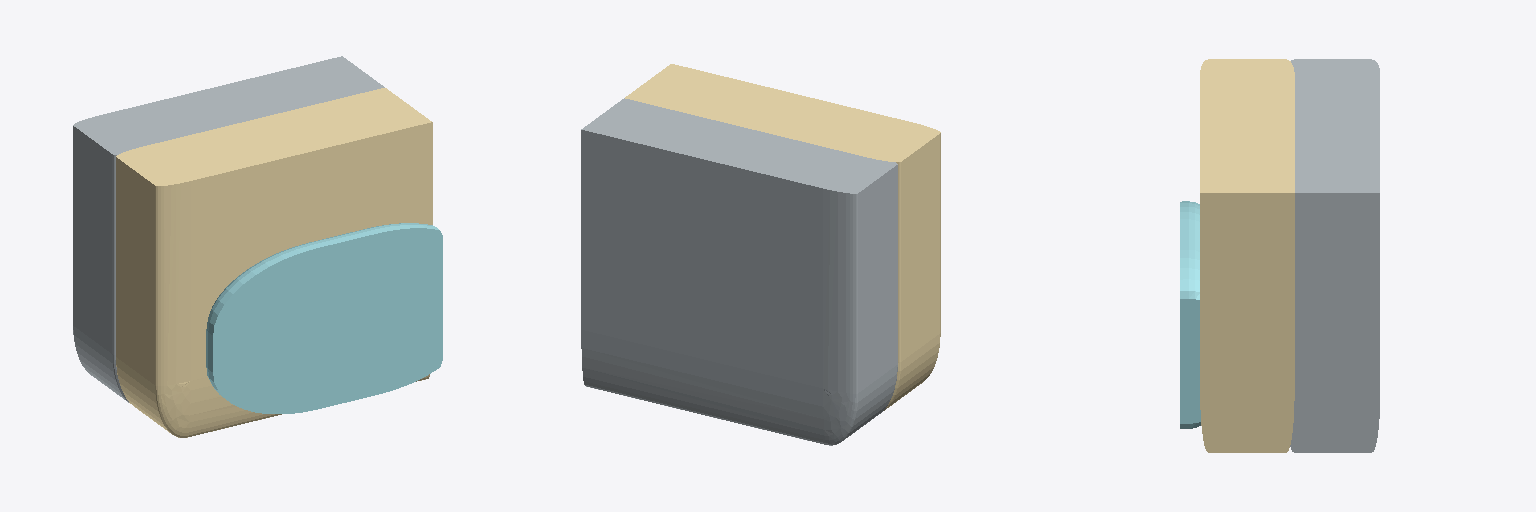
File: comfy bed1.obj
3 renders of one model, left to right at view 1: azimuth 30°, elevation 25°; view 2: azimuth 150°, elevation 25°; view 3: azimuth 270°, elevation 25°, orthographic.
Visible parts, largest first — view 1: obj_0; view 2: obj_0; view 3: obj_0.
Boxes of the visible parts, box(x1,y1,x2,y2) form: obj_0: box(73, 56, 442, 437); obj_0: box(581, 64, 940, 445); obj_0: box(1180, 59, 1379, 452).
Bounding box in the file's own units: 817 × 742 × 520.